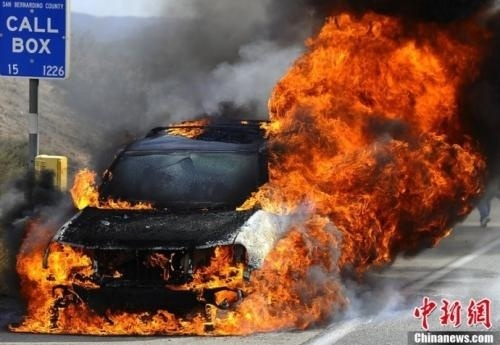fire: (75, 15, 497, 318), (69, 164, 158, 213)
